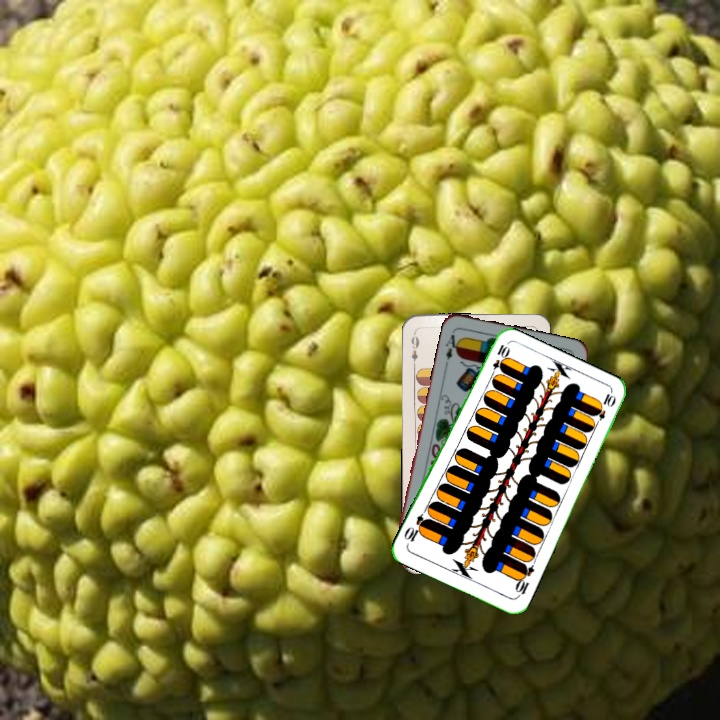E10: (511, 560, 537, 600), (487, 340, 510, 380)
E9: (407, 328, 421, 369)
EA: (441, 327, 463, 362)
